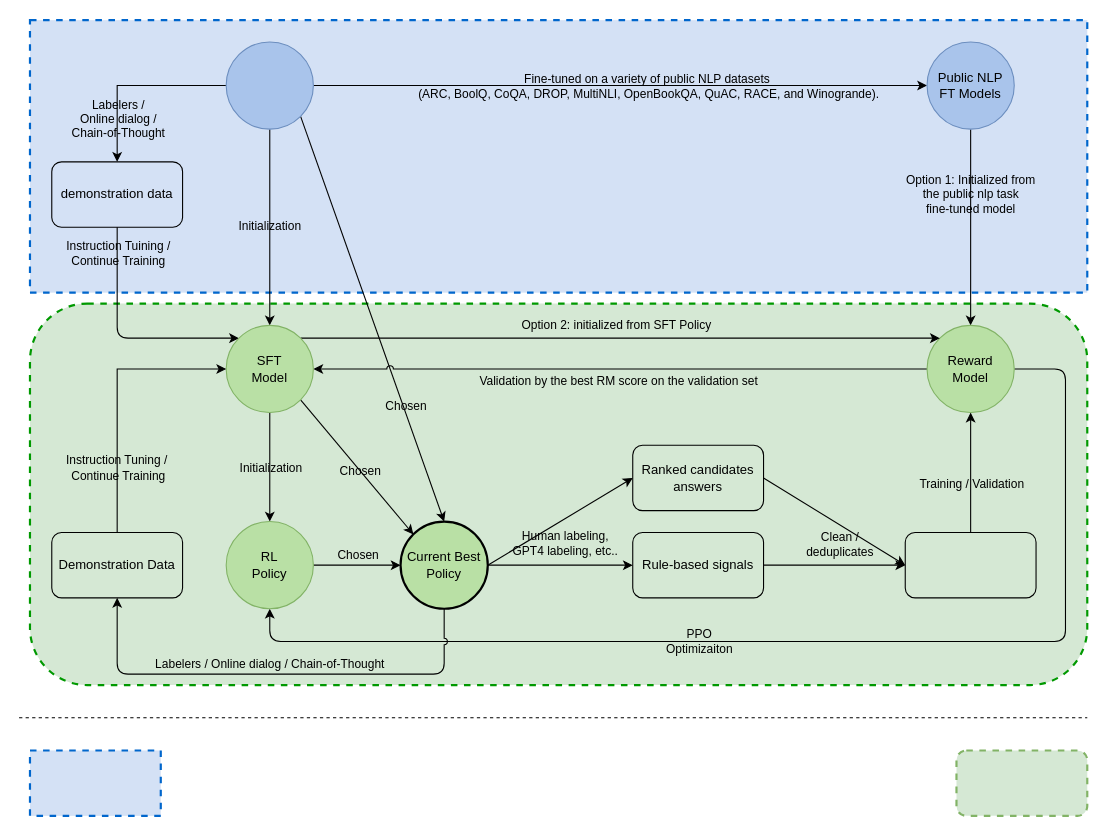
Image size: 1107x835. Some labels were removed from this diagram. Each missing label, with the centre of its shape:
"Base Model (GPT3, Bloom, etc..)" goes at (269,85).
"Cleaned, deduplicated reward signals" goes at (970,564).
"cold-start" goes at (94,782).
"Flywheel" goes at (1021,782).
